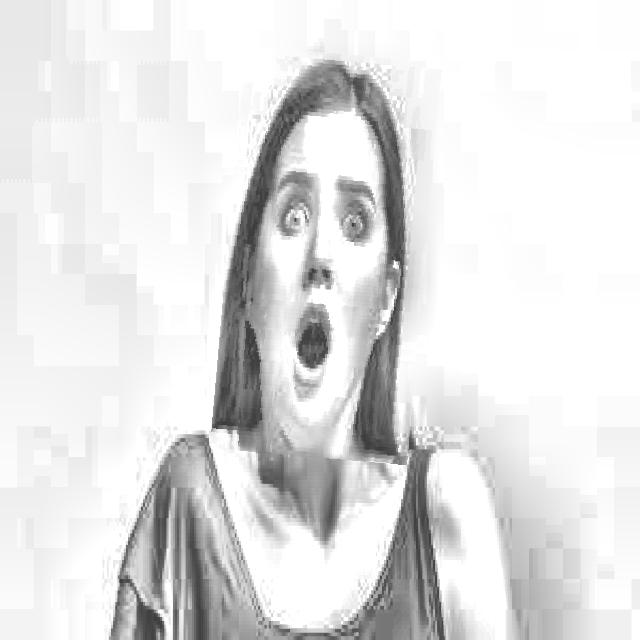surprise: (219, 51, 434, 462)
